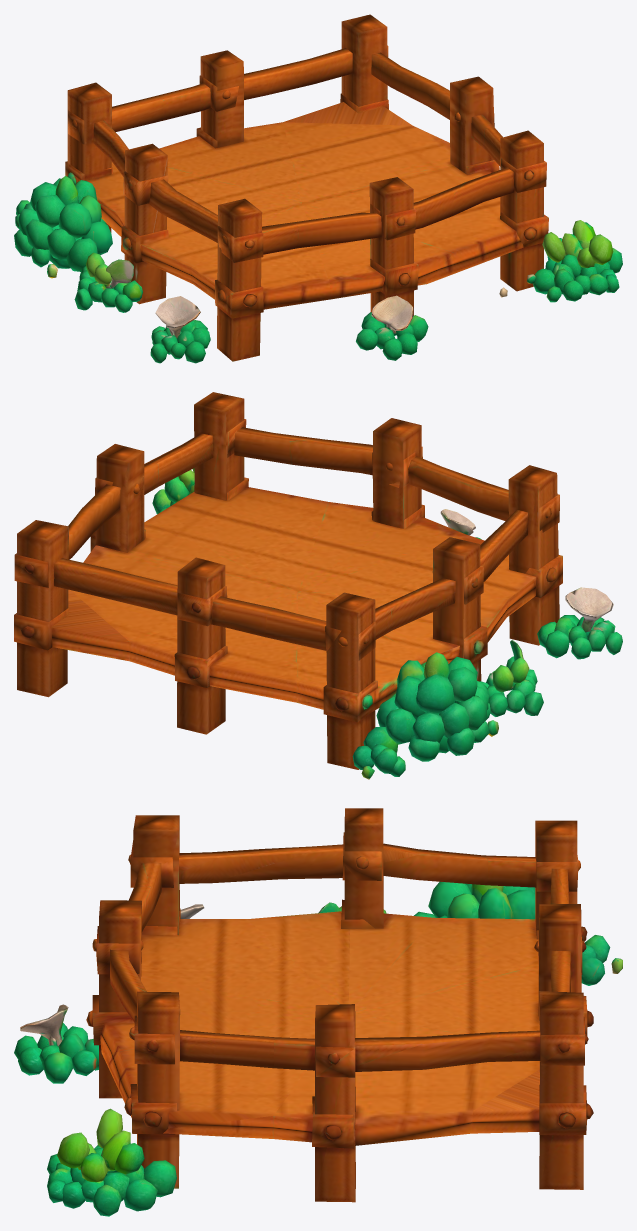
Rendered from r4c6_fenced_platform.glb.
The picture shows the model from 3 angles, top to bottom: view 1: azimuth 30°, elevation 25°; view 2: azimuth 150°, elevation 25°; view 3: azimuth 270°, elevation 25°; orthographic projection. The views are drawn at different scales.
Bounding box in the file's own units: 1 × 0.3105 × 0.9375.
Materials: 1 (1 with a texture image).
